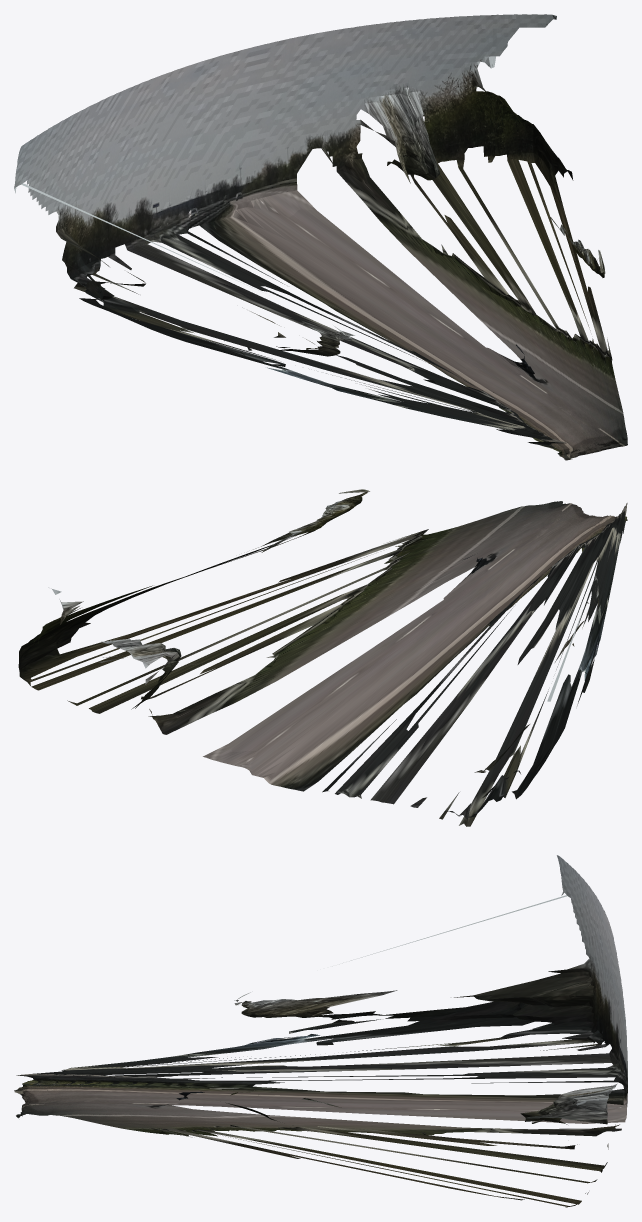
The picture shows the model from 3 angles, top to bottom: view 1: azimuth 30°, elevation 25°; view 2: azimuth 150°, elevation 25°; view 3: azimuth 270°, elevation 25°; orthographic projection. The views are drawn at different scales.
Parts seen in each view (by area): view 1: defaultobject; view 2: defaultobject; view 3: defaultobject.
Part boxes in pixels (bbox=[...]): defaultobject: bbox=[14, 14, 627, 460]; defaultobject: bbox=[18, 489, 627, 826]; defaultobject: bbox=[14, 855, 627, 1207].
Size of the model in its own units: 40.31 by 13.05 by 44.73.
1 material, 1 textured.
